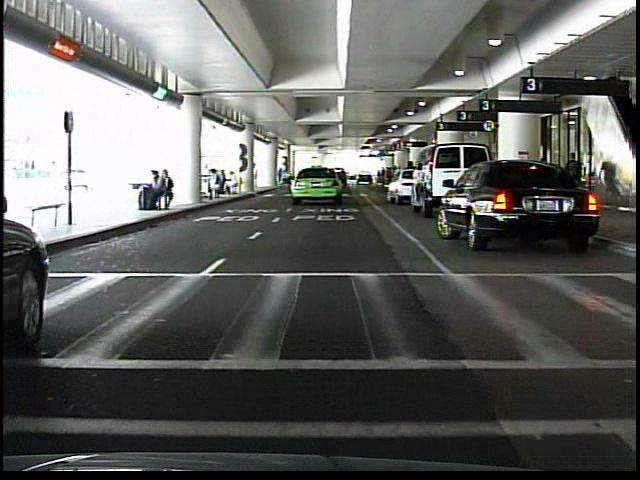person: (561, 149, 587, 213)
